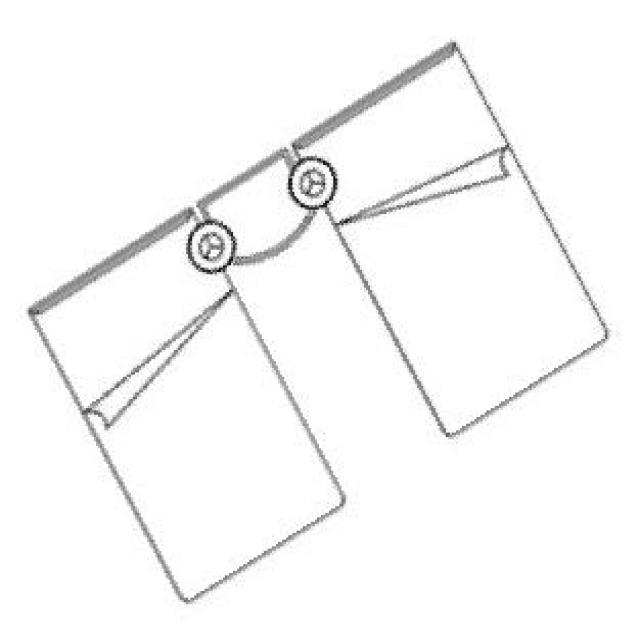bed: (29, 38, 605, 600)
